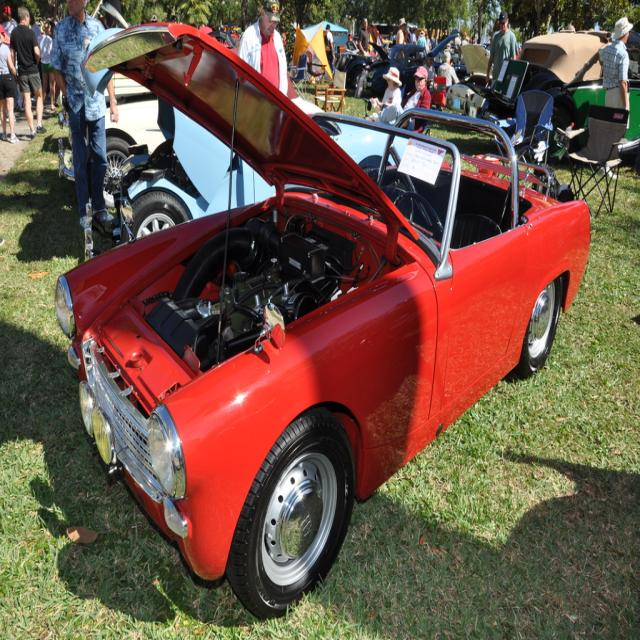car: (52, 16, 591, 622)
